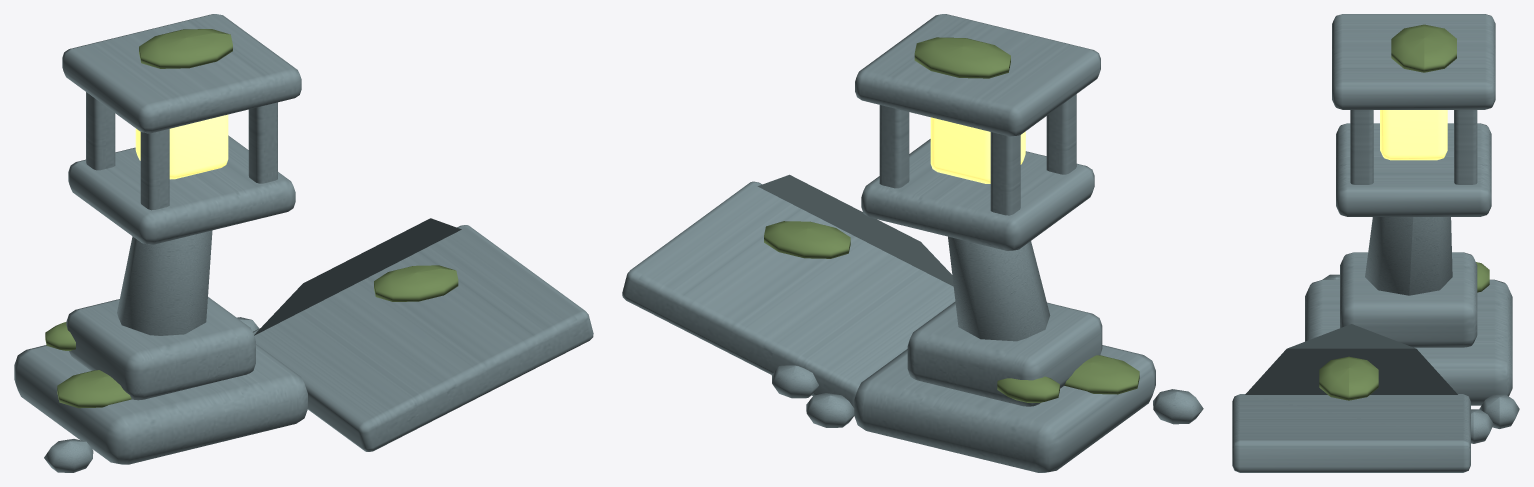
File: nyanisyarud-bamboo-stone-lantern.glb
3 views of the same model, side by side, from view 1: azimuth 30°, elevation 25°; view 2: azimuth 150°, elevation 25°; view 3: azimuth 270°, elevation 25° (orthographic). The views are drawn at different scales.
Visible parts, largest first — view 1: Weathered stone, Forest moss, Warm lantern light; view 2: Weathered stone, Forest moss, Warm lantern light; view 3: Weathered stone, Forest moss, Warm lantern light.
Part boxes in pixels (x1=…): Weathered stone: x1=14, y1=14, x2=593, y2=472; Forest moss: x1=45, y1=29, x2=458, y2=408; Warm lantern light: x1=135, y1=114, x2=228, y2=179; Weathered stone: x1=622, y1=14, x2=1203, y2=472; Forest moss: x1=764, y1=37, x2=1139, y2=402; Warm lantern light: x1=930, y1=117, x2=1025, y2=183; Weathered stone: x1=1232, y1=14, x2=1519, y2=472; Forest moss: x1=1319, y1=24, x2=1489, y2=400; Warm lantern light: x1=1380, y1=110, x2=1447, y2=160.
Bounding box in the file's own units: 2.1 × 1.48 × 1.11.
3 materials, 1 textured.
